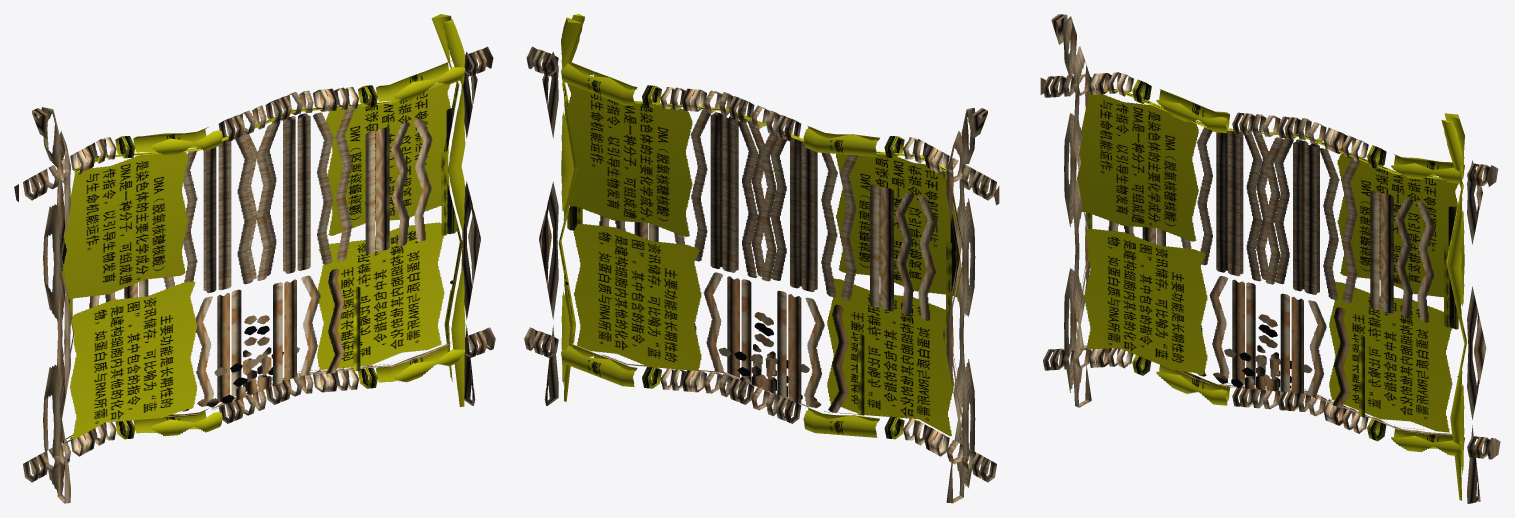
Rendered from a3board01.DAE.
The picture shows the model from 3 angles, left to right: view 1: azimuth 30°, elevation 25°; view 2: azimuth 150°, elevation 25°; view 3: azimuth 330°, elevation 25°; orthographic projection. The views are drawn at different scales.
Visible parts, largest first — view 1: Box02; view 2: Box02; view 3: Box02.
Boxes of the visible parts, x1,y1,x2,y2 form: Box02: (14,14,495,503); Box02: (524,14,999,503); Box02: (1040,14,1500,503).
Bounding box in the file's own units: 45.96 × 1.9 × 36.78.
